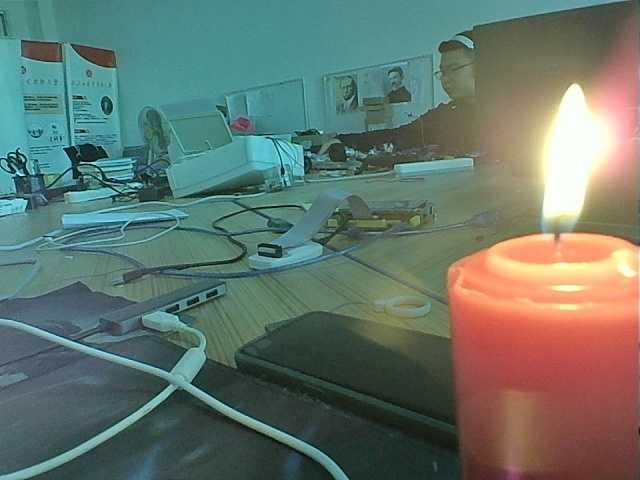candle: (443, 221, 640, 480)
fire: (524, 73, 605, 264)
